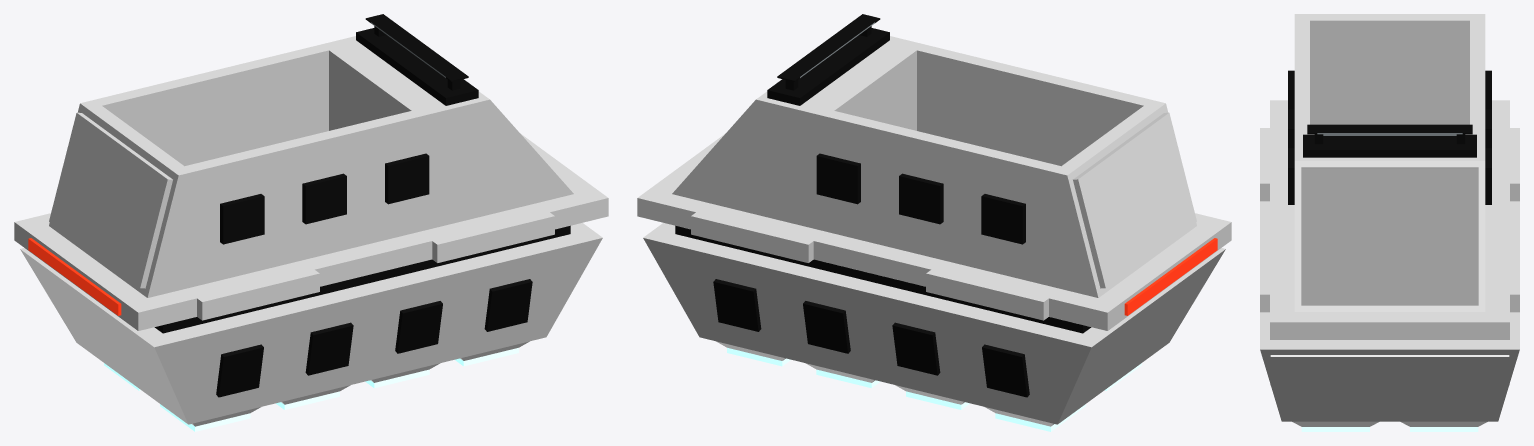
The model's file is droid.glb.
3 renders of one model, left to right at view 1: azimuth 30°, elevation 25°; view 2: azimuth 150°, elevation 25°; view 3: azimuth 270°, elevation 25°, orthographic. The views are drawn at different scales.
Visible parts, largest first — view 1: DroidMesh; view 2: DroidMesh; view 3: DroidMesh.
Part boxes in pixels (left/top/right/bottom): DroidMesh: left=14, top=14, right=608, bottom=431; DroidMesh: left=637, top=14, right=1231, bottom=431; DroidMesh: left=1260, top=14, right=1519, bottom=431.
Size of the model in its own units: 1.92 by 1.11 by 0.9449.
1 material, 1 textured.
